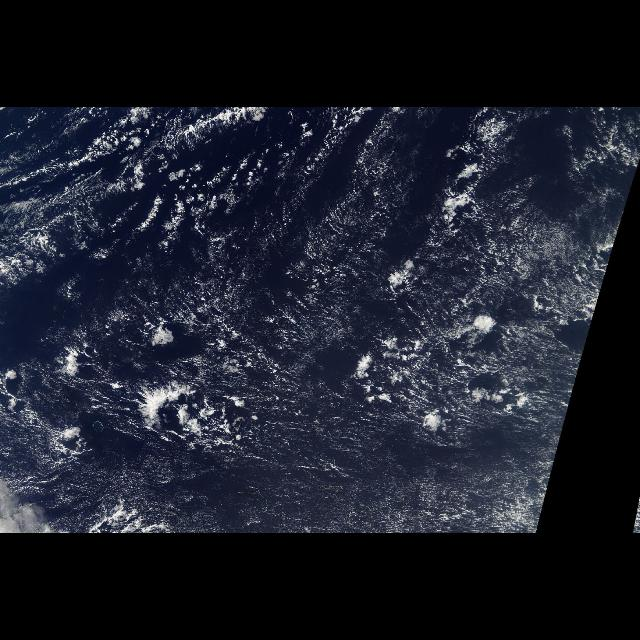Gravel: (350, 270, 544, 446), (138, 376, 252, 454)
Sugar: (1, 109, 622, 533)
